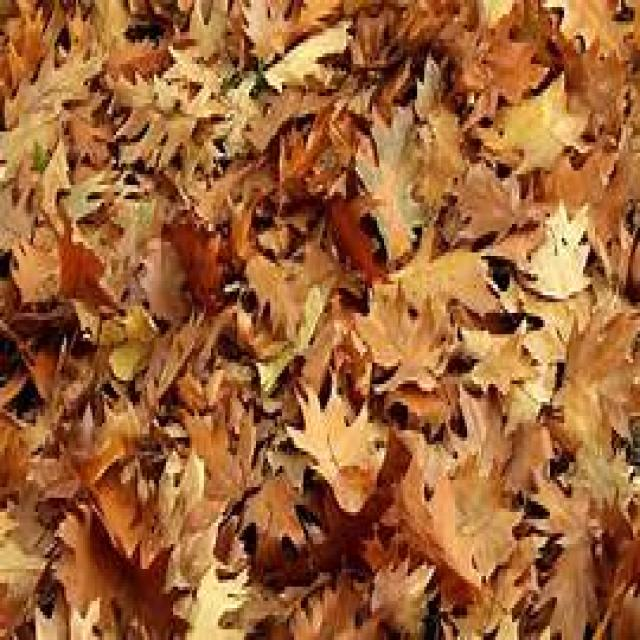Organik: (5, 8, 632, 629)
